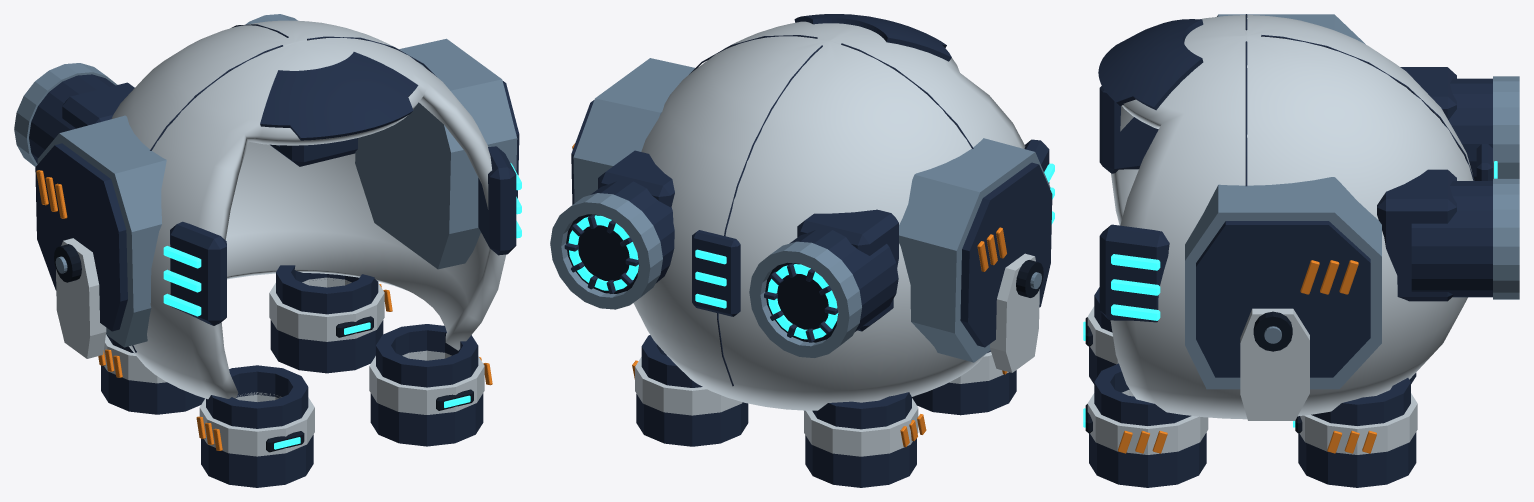
File: mechaplayer-arcade-v3-accessories.fbx
3 renders of one model, left to right at view 1: azimuth 30°, elevation 25°; view 2: azimuth 150°, elevation 25°; view 3: azimuth 270°, elevation 25°, orthographic. The views are drawn at different scales.
Visible parts, largest first — view 1: MechContinuousBackArmor, MechShoulderFrame_1, MechShoulderFrame_-1, MechForeheadConnectedPlate, MechShoulderNavy_-1, MechBootUpper_1_0, MechBootUpper_-1_0, MechVentRecess_-1, MechLowerGuard_-1, MechBootSole_1_0, MechBootSole_-1_0, MechBootSole_1_1 (+12 smaller); view 2: MechContinuousBackArmor, MechShoulderFrame_-1, MechShoulderNavy_-1, MechShoulderFrame_1, MechThrusterLip_-1, MechThrusterLip_1, MechLowerGuard_-1, MechThrusterBody_-1, MechBootSole_1_1, MechBootSole_-1_1, MechBootBand_-1_1, MechRearVent (+17 smaller); view 3: MechContinuousBackArmor, MechShoulderNavy_1, MechShoulderFrame_1, MechThrusterBody_1, MechForeheadConnectedPlate, MechLowerGuard_1, MechThrusterMount_1, MechVentRecess_1, MechBootSole_1_1, MechBootSole_1_0, MechThrusterLip_1, MechBootBand_1_0 (+15 smaller).
Part boxes in pixels (left/top/right/bottom): MechContinuousBackArmor: left=111, top=20, right=505, bottom=399; MechShoulderFrame_1: left=355, top=38, right=517, bottom=269; MechShoulderFrame_-1: left=37, top=115, right=166, bottom=347; MechForeheadConnectedPlate: left=260, top=52, right=418, bottom=140; MechShoulderNavy_-1: left=35, top=143, right=127, bottom=331; MechBootUpper_1_0: left=376, top=324, right=478, bottom=387; MechBootUpper_-1_0: left=206, top=365, right=308, bottom=428; MechVentRecess_-1: left=170, top=221, right=226, bottom=325; MechLowerGuard_-1: left=56, top=238, right=106, bottom=358; MechBootSole_1_0: left=370, top=393, right=483, bottom=446; MechBootSole_-1_0: left=201, top=434, right=313, bottom=487; MechBootSole_1_1: left=270, top=320, right=383, bottom=373; MechContinuousBackArmor: left=633, top=21, right=1025, bottom=410; MechShoulderFrame_-1: left=899, top=138, right=1050, bottom=362; MechShoulderNavy_-1: left=960, top=162, right=1052, bottom=347; MechShoulderFrame_1: left=573, top=58, right=694, bottom=203; MechThrusterLip_-1: left=749, top=241, right=861, bottom=357; MechThrusterLip_1: left=550, top=193, right=662, bottom=309; MechLowerGuard_-1: left=989, top=253, right=1039, bottom=372; MechThrusterBody_-1: left=789, top=229, right=898, bottom=331; MechBootSole_1_1: left=636, top=394, right=748, bottom=446; MechBootSole_-1_1: left=805, top=435, right=916, bottom=487; MechBootBand_-1_1: left=804, top=398, right=918, bottom=456; MechRearVent: left=692, top=230, right=740, bottom=316; MechContinuousBackArmor: left=1110, top=15, right=1473, bottom=419; MechShoulderNavy_1: left=1196, top=221, right=1370, bottom=377; MechShoulderFrame_1: left=1185, top=177, right=1381, bottom=389; MechThrusterBody_1: left=1411, top=181, right=1492, bottom=297; MechForeheadConnectedPlate: left=1098, top=19, right=1203, bottom=110; MechLowerGuard_1: left=1240, top=308, right=1309, bottom=420; MechThrusterMount_1: left=1377, top=169, right=1456, bottom=301; MechVentRecess_1: left=1099, top=224, right=1169, bottom=322; MechBootSole_1_1: left=1298, top=432, right=1416, bottom=487; MechBootSole_1_0: left=1089, top=432, right=1206, bottom=487; MechThrusterLip_1: left=1493, top=178, right=1519, bottom=299; MechBootBand_1_0: left=1087, top=389, right=1208, bottom=454.
Size of the model in its own units: 1573 by 1240 by 1274.
